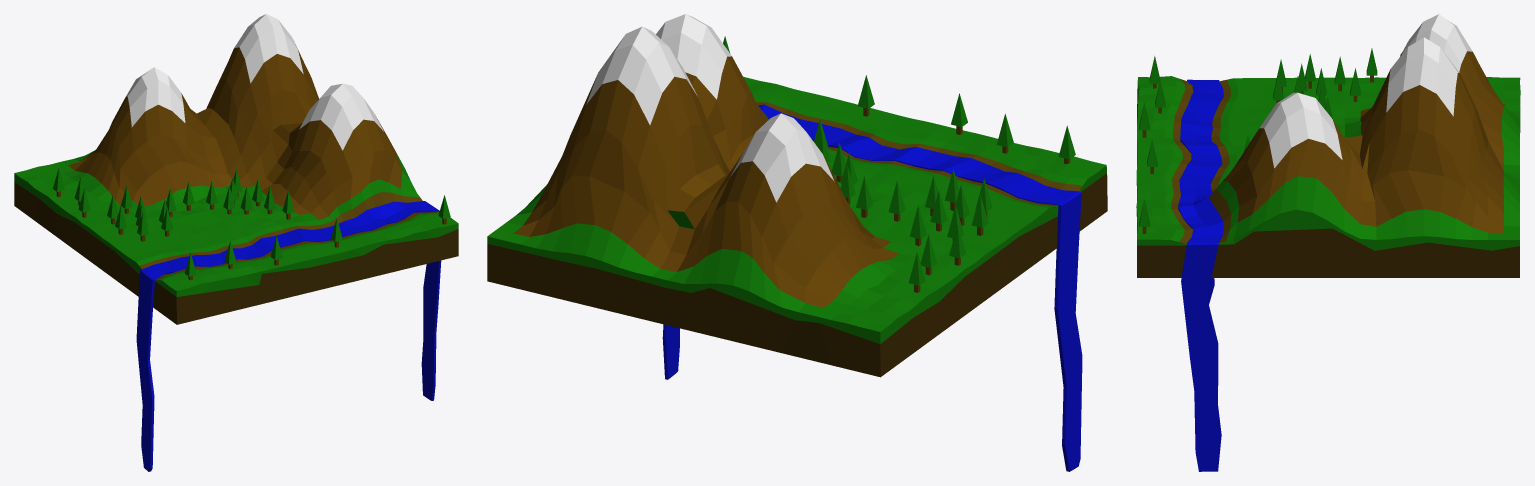
File: mounts.fbx
3 views of the same model, side by side, from view 1: azimuth 30°, elevation 25°; view 2: azimuth 150°, elevation 25°; view 3: azimuth 270°, elevation 25° (orthographic). The views are drawn at different scales.
Parts seen in each view (by area): view 1: Mountain, Grass, Ground, Watter, Snow, Trunk, Mud; view 2: Mountain, Grass, Ground, Watter, Snow, Trunk, Mud; view 3: Mountain, Grass, Ground, Watter, Snow, Trunk, Mud.
Part boxes in pixels (box(x1,y1,x2,y2)): Mountain: box(68, 41, 402, 219); Grass: box(14, 150, 458, 296); Ground: box(14, 182, 458, 324); Watter: box(136, 201, 441, 471); Snow: box(126, 14, 383, 150); Trunk: box(52, 168, 450, 280); Mud: box(139, 192, 439, 280); Mountain: box(513, 56, 899, 307); Grass: box(487, 77, 1106, 344); Ground: box(487, 173, 1107, 377); Watter: box(662, 104, 1082, 471); Snow: box(586, 14, 834, 202); Trunk: box(723, 36, 1075, 292); Mud: box(755, 102, 1082, 206); Mountain: box(1223, 42, 1505, 233); Grass: box(1136, 76, 1520, 250); Ground: box(1137, 88, 1520, 277); Watter: box(1178, 79, 1223, 471); Snow: box(1259, 14, 1472, 168); Trunk: box(1139, 48, 1401, 233); Mud: box(1171, 79, 1231, 243).
Bounding box in the file's own units: 409 × 453 × 401.
